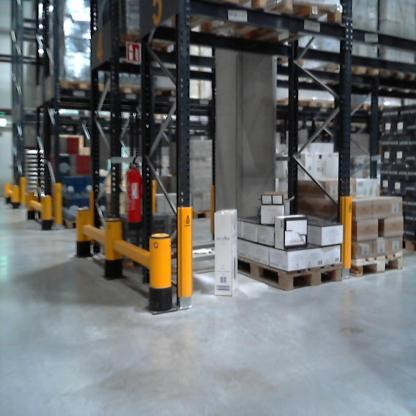pallet: (234, 231, 347, 295), (235, 1, 348, 57), (167, 2, 274, 49), (344, 236, 407, 284), (328, 61, 384, 89), (58, 73, 108, 99), (273, 92, 316, 122), (60, 205, 103, 232), (343, 100, 386, 126), (108, 78, 146, 100), (311, 96, 343, 122), (146, 78, 183, 99), (381, 60, 414, 82), (178, 201, 215, 218), (403, 230, 416, 252)
